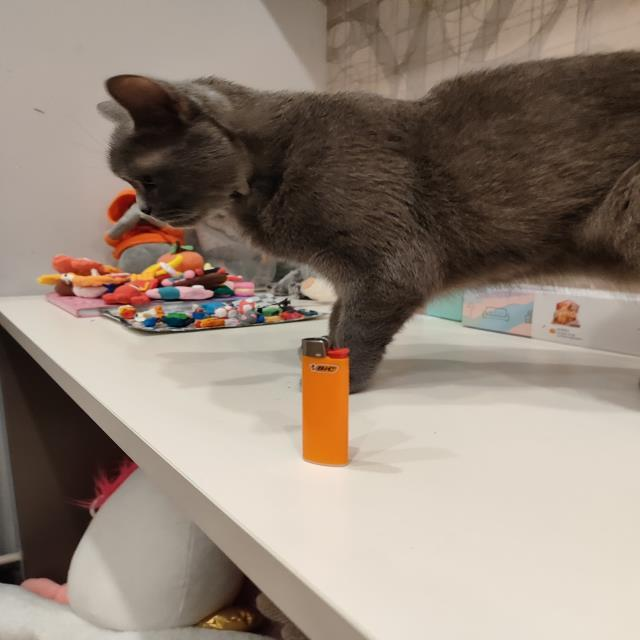lighter: (301, 338, 349, 465)
